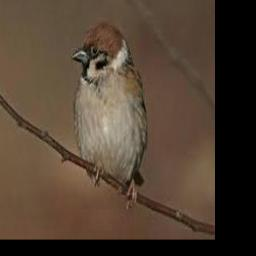Sparrow: (71, 21, 147, 208)
